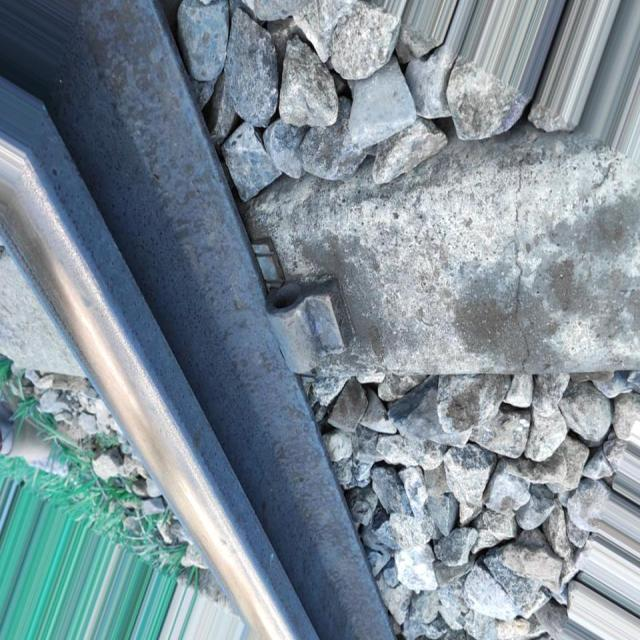Missing Fastener: (248, 266, 362, 385)
